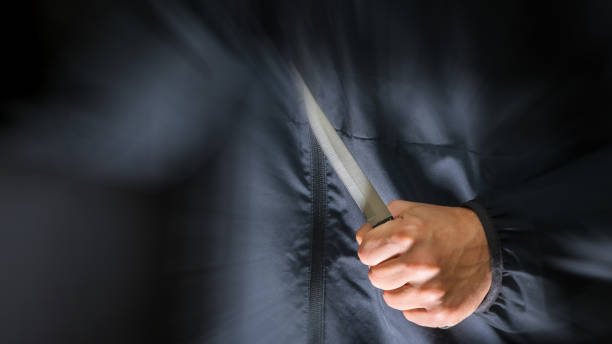knife: (302, 82, 395, 229)
